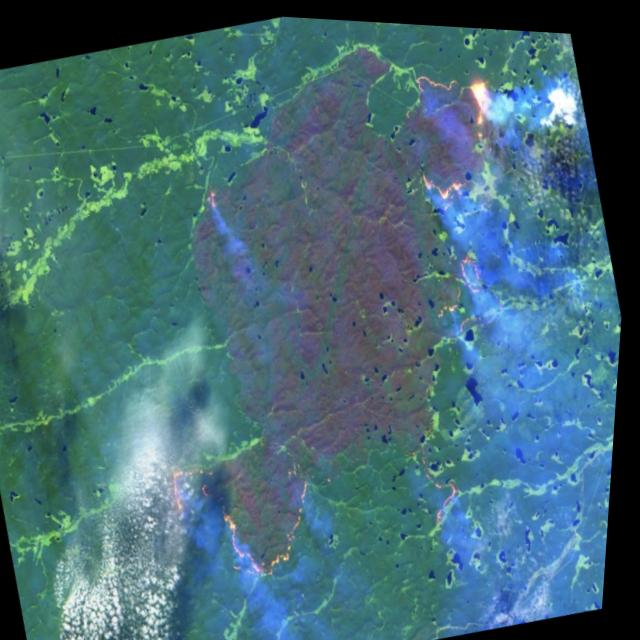fire: (156, 411, 345, 602), (391, 43, 523, 209), (415, 441, 480, 529), (451, 239, 503, 307), (201, 175, 230, 214)
